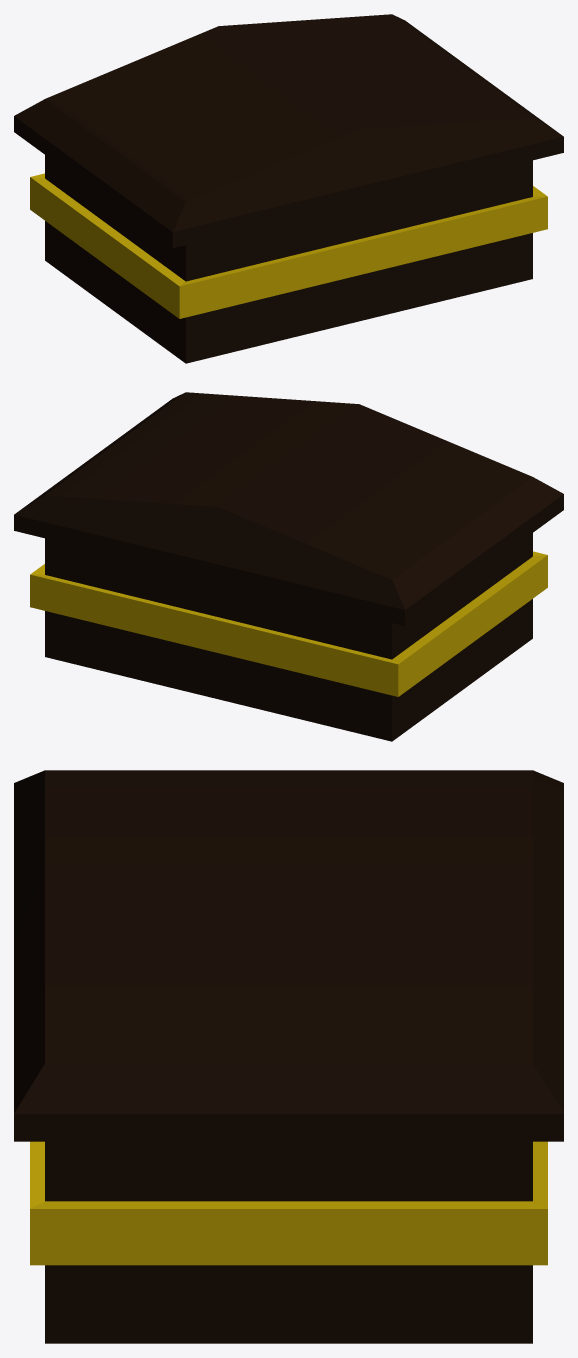
The picture shows the model from 3 angles, top to bottom: view 1: azimuth 30°, elevation 25°; view 2: azimuth 150°, elevation 25°; view 3: azimuth 270°, elevation 25°; orthographic projection. The views are drawn at different scales.
Visible parts, largest first — view 1: Box; view 2: Box; view 3: Box.
Part boxes in pixels (x1,y1,x2,y2): Box: (14,14,563,363); Box: (14,392,563,741); Box: (14,770,563,1343).
Size of the model in its own units: 7.56 by 3.55 by 5.31.
